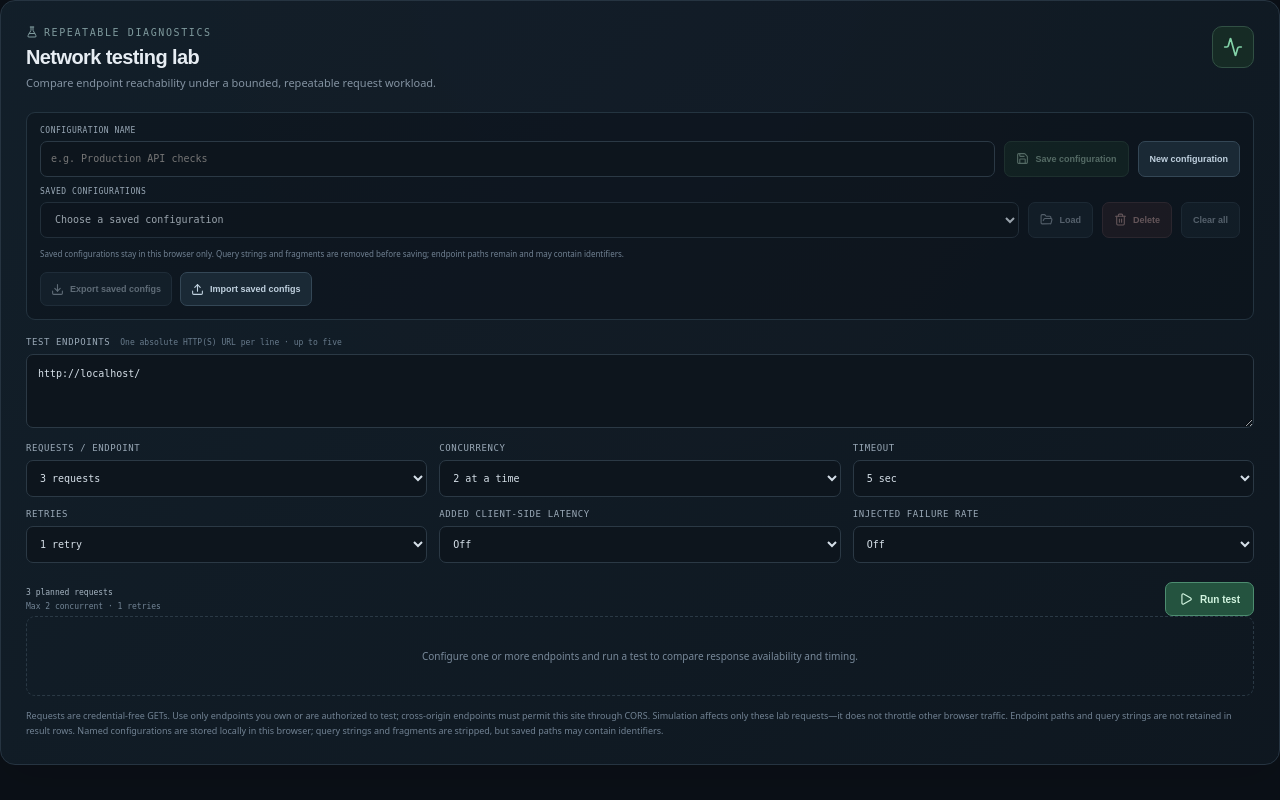
it: NetworkTestLab › prevents a run when endpoint input contains credentials
Replace the text in the text box labelled "Test endpoints" with "https://user:secret@example.test/health" at (640, 391), box x1=26 y1=354 x2=1254 y2=428
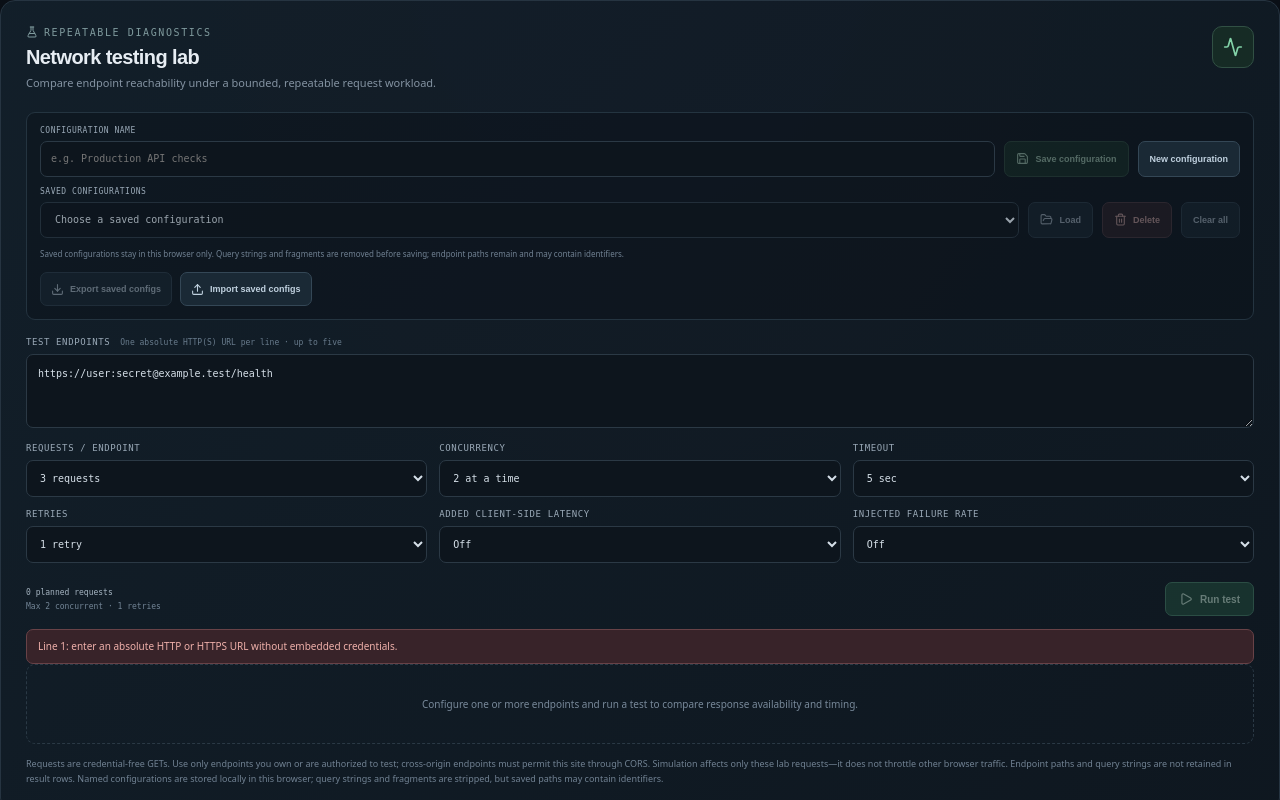
Result: the message shows "without embedded credentials" at x1=38 y1=639 x2=397 y2=653
Result: the button "Run test" is disabled at x1=1165 y1=582 x2=1254 y2=616
